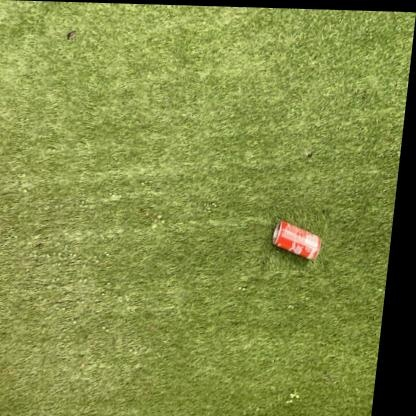trash: (272, 220, 319, 259)
